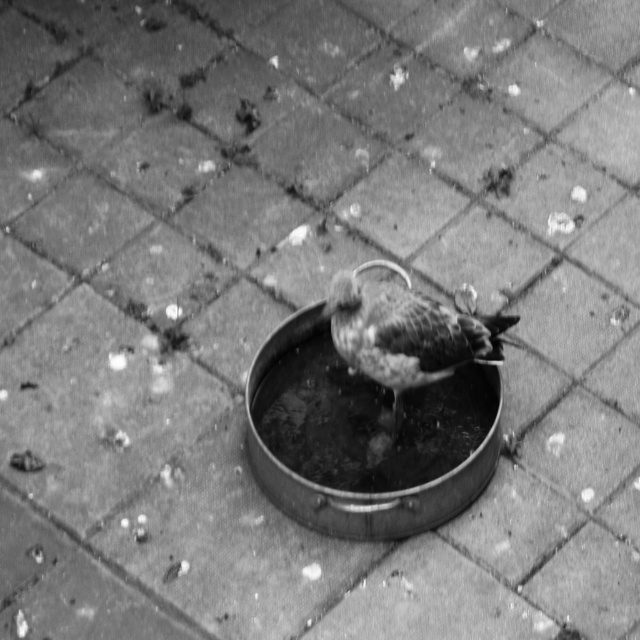Sparrow: (321, 265, 521, 415)
